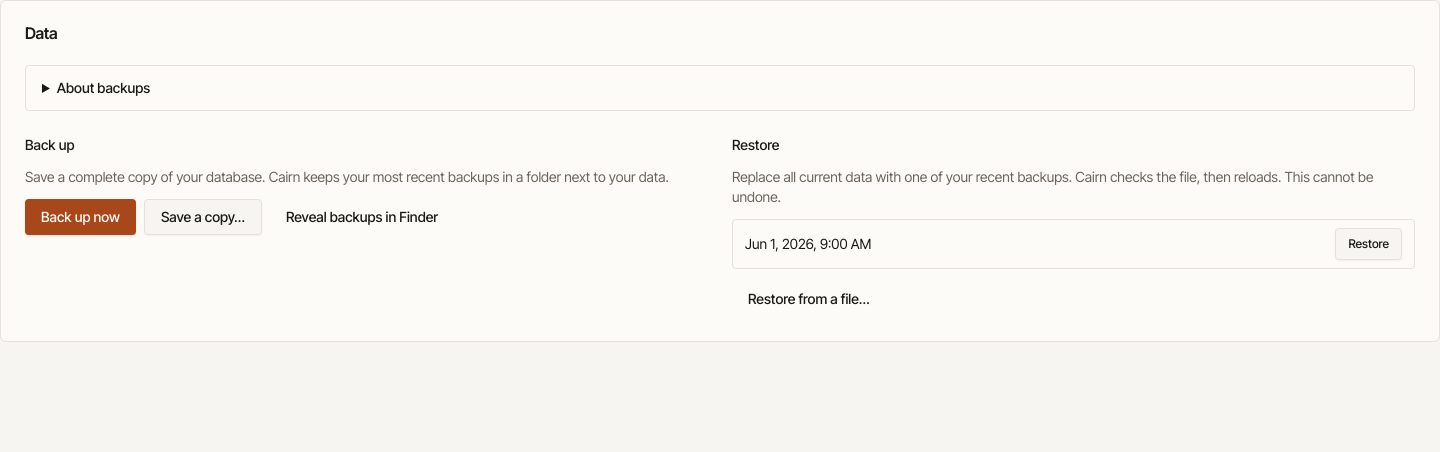
Test: DataSection — desktop (Tauri) path › reloads the backup list after a successful Back up now
The width and height of the screenshot is (1440, 452).
Expected: the number of list items with test id "backup-row" is 1, top-left (733, 220), bottom-right (1414, 268)
What coordinates should you click on to do the following:
click the button "Back up now"
I would click on:
 (80, 217)
Its box is top-left (25, 199), bottom-right (136, 235).
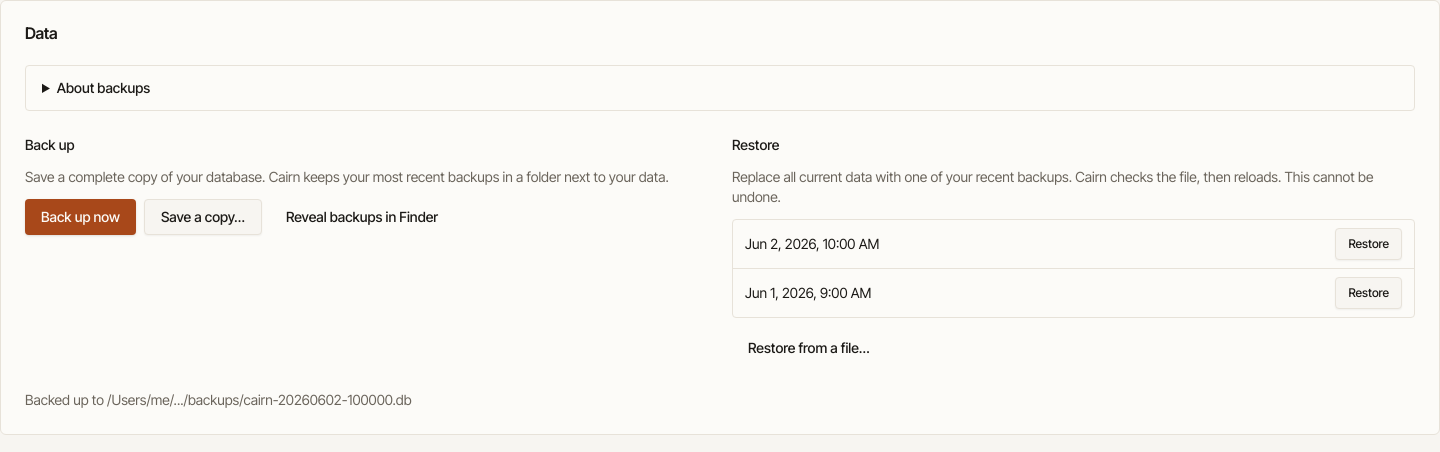
Expected: the number of list items with test id "backup-row" is 2, top-left (733, 220), bottom-right (1414, 268); top-left (733, 268), bottom-right (1414, 317)
